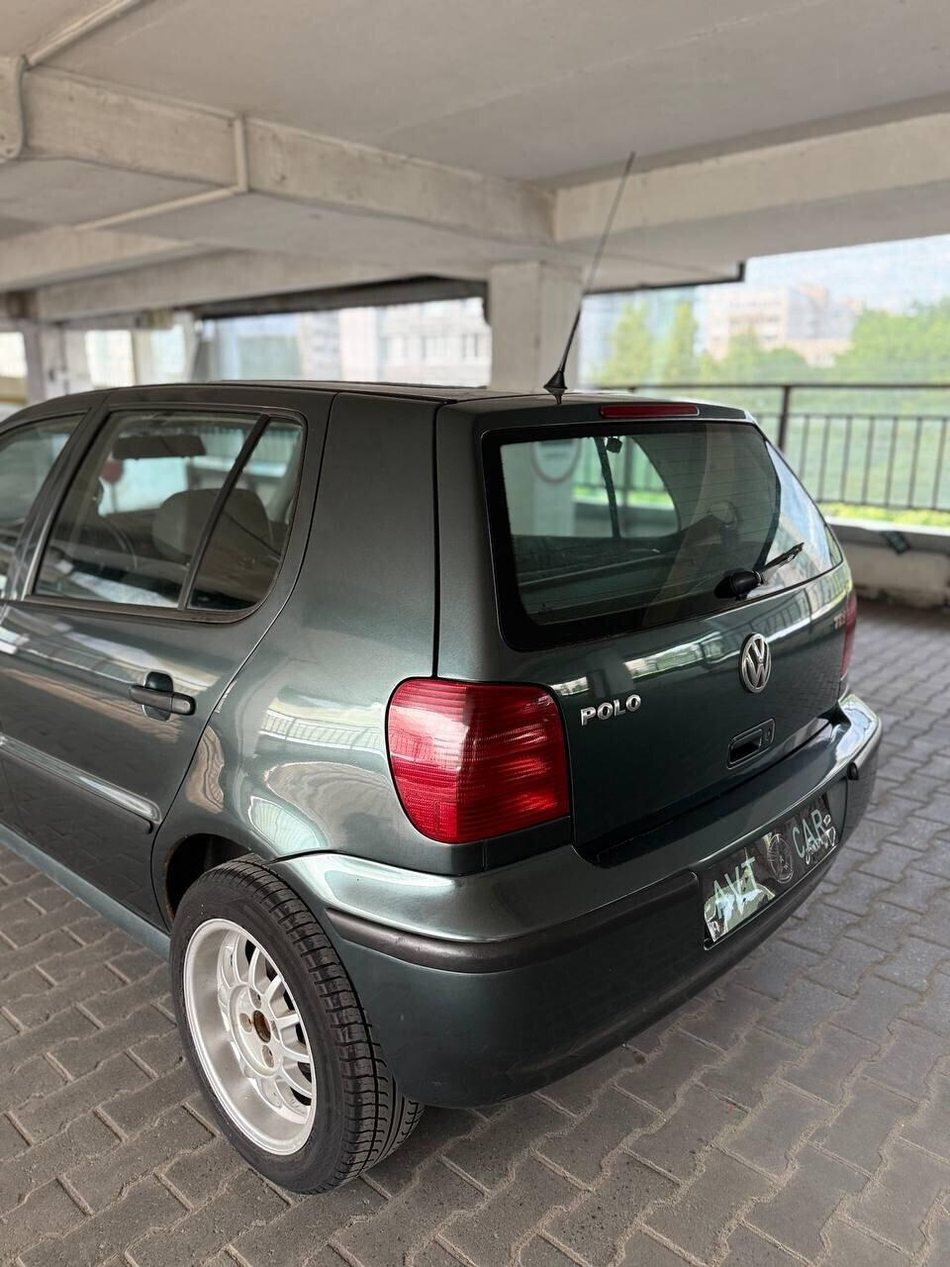Polo_2000-2002: (0, 340, 877, 1225)
